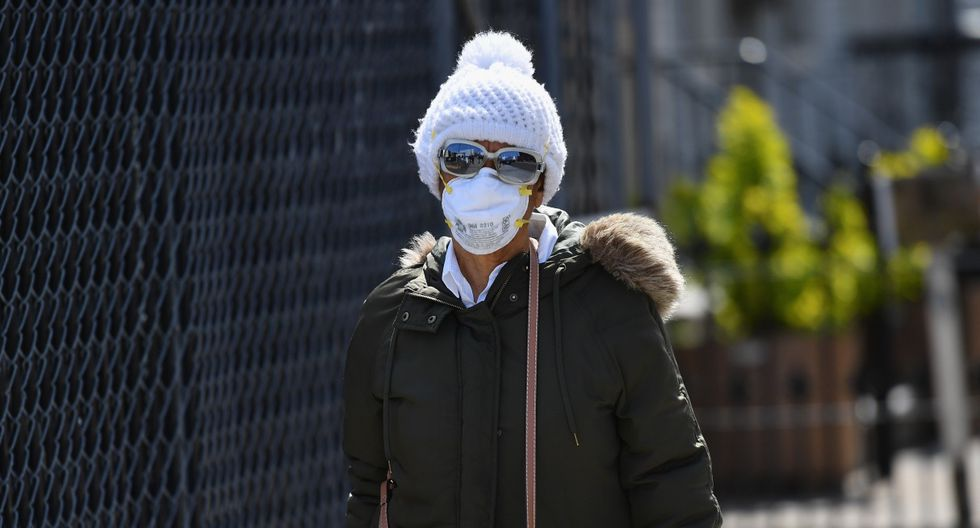with_mask: (414, 99, 564, 260)
